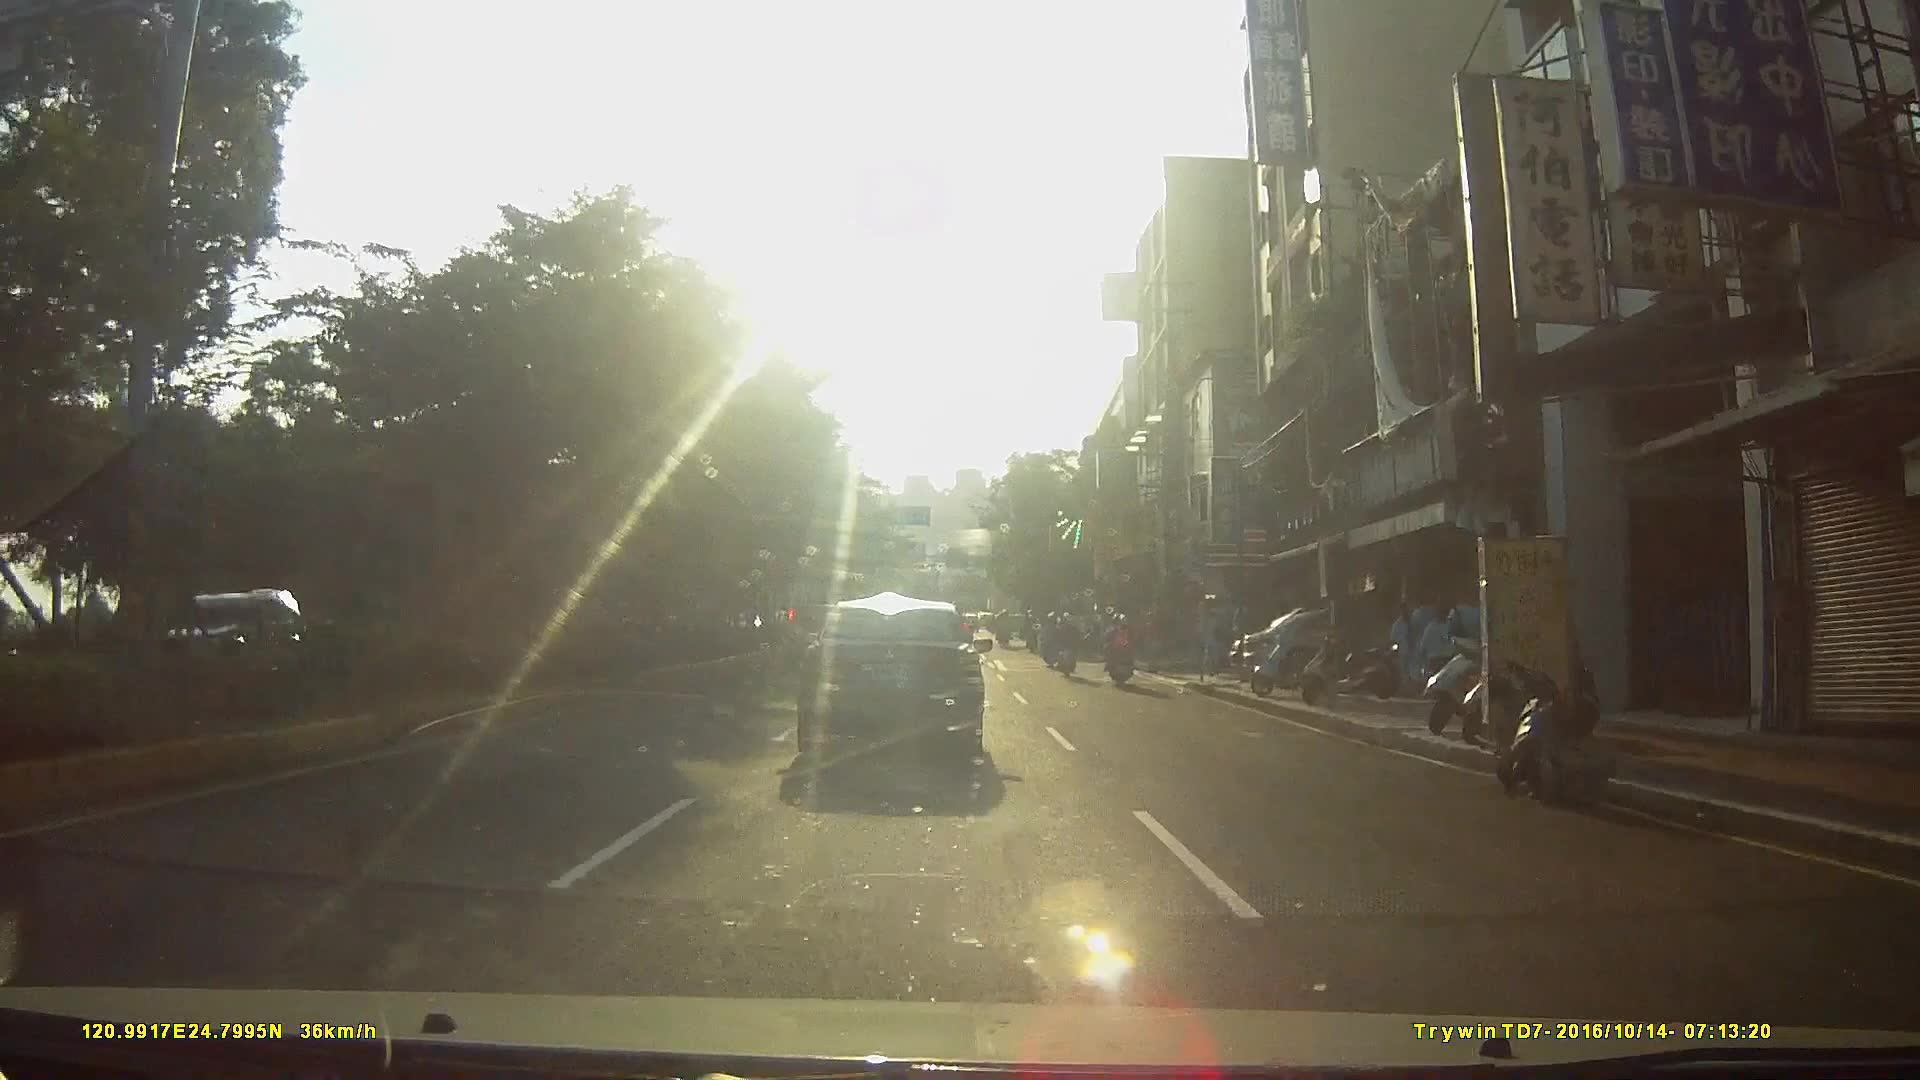pedestrian: (1447, 576, 1490, 712), (1418, 598, 1455, 710)
rider: (1105, 612, 1138, 690), (1055, 612, 1081, 680), (1042, 611, 1063, 670)
vehicle: (795, 598, 1010, 787), (139, 582, 328, 699)
